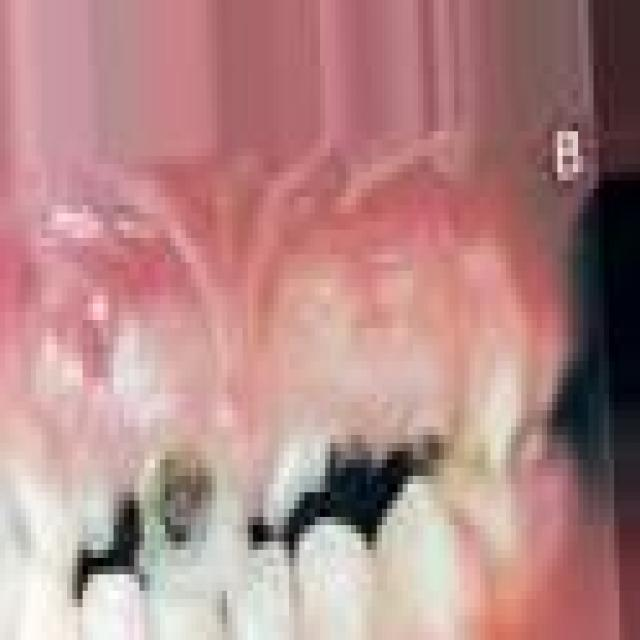caries: (152, 434, 225, 554), (328, 418, 417, 495), (258, 435, 324, 532), (76, 475, 140, 565)
